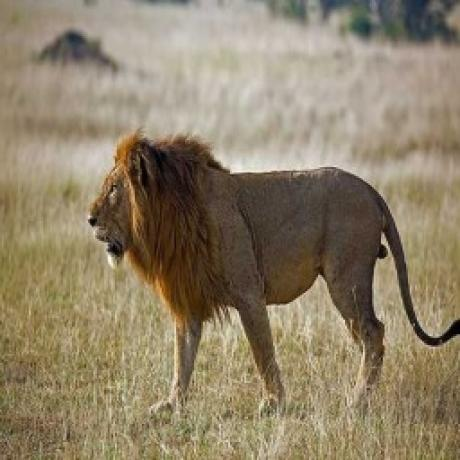Lion: (84, 129, 460, 417)
